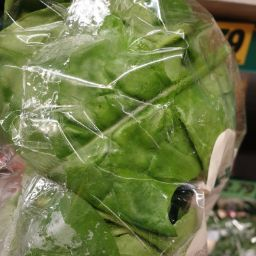Spinach: (11, 26, 205, 209), (52, 53, 169, 190)
